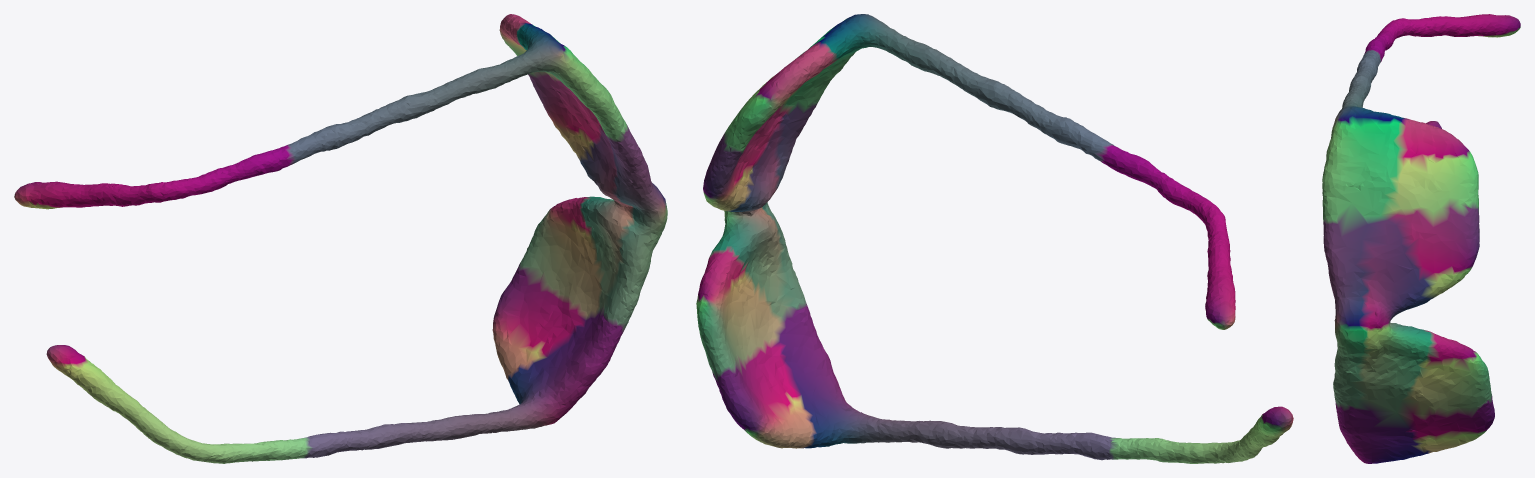
The model's file is glasses-14.off.obj.
3 views of the same model, side by side, from view 1: azimuth 30°, elevation 25°; view 2: azimuth 150°, elevation 25°; view 3: azimuth 270°, elevation 25° (orthographic). The views are drawn at different scales.
Bounding box in the file's own units: 1.23 × 0.8113 × 0.4151.
